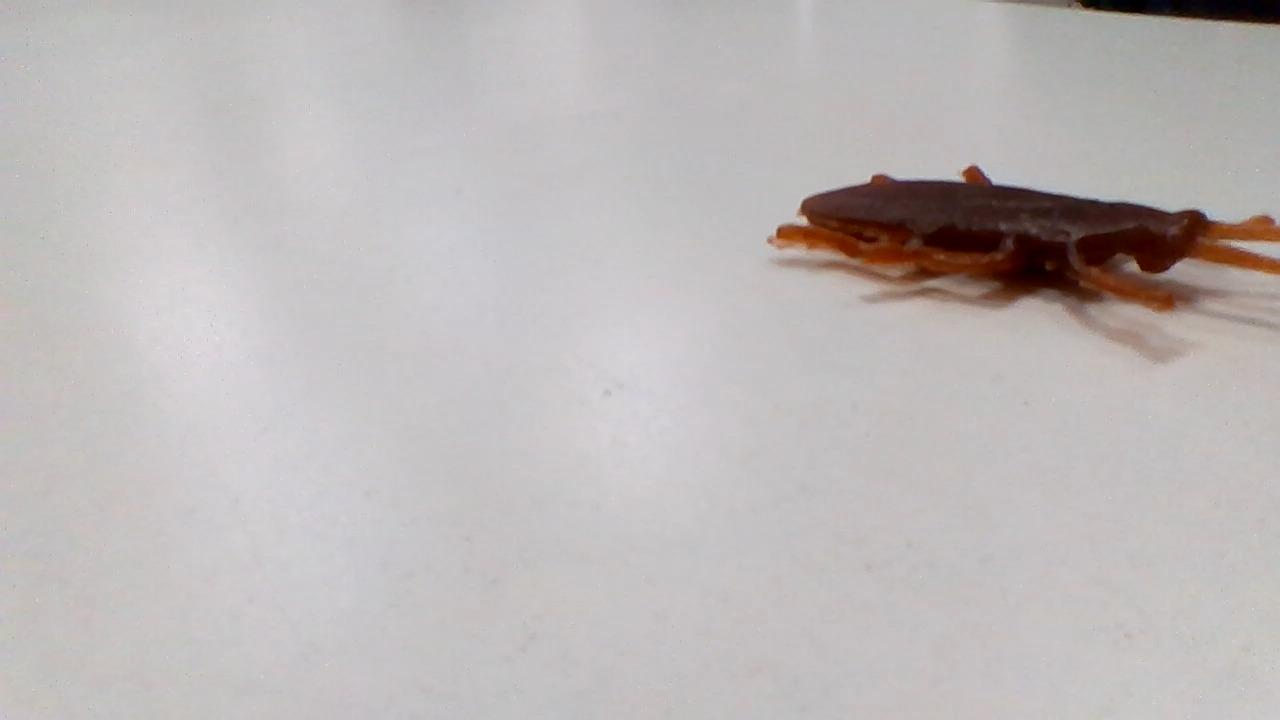cockroach: (765, 152, 1280, 321)
